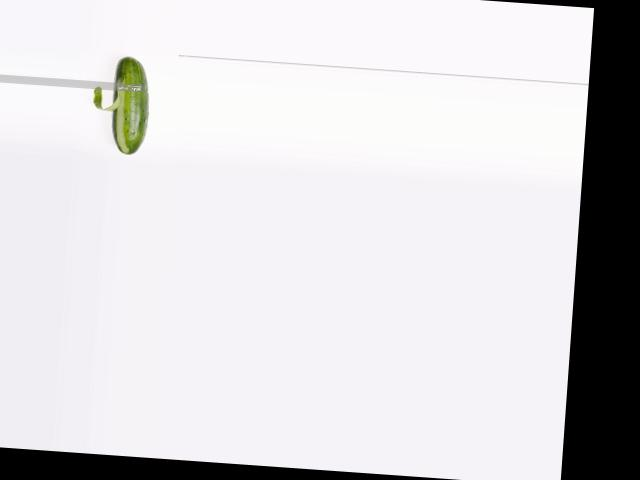cucumber: (108, 55, 151, 155)
